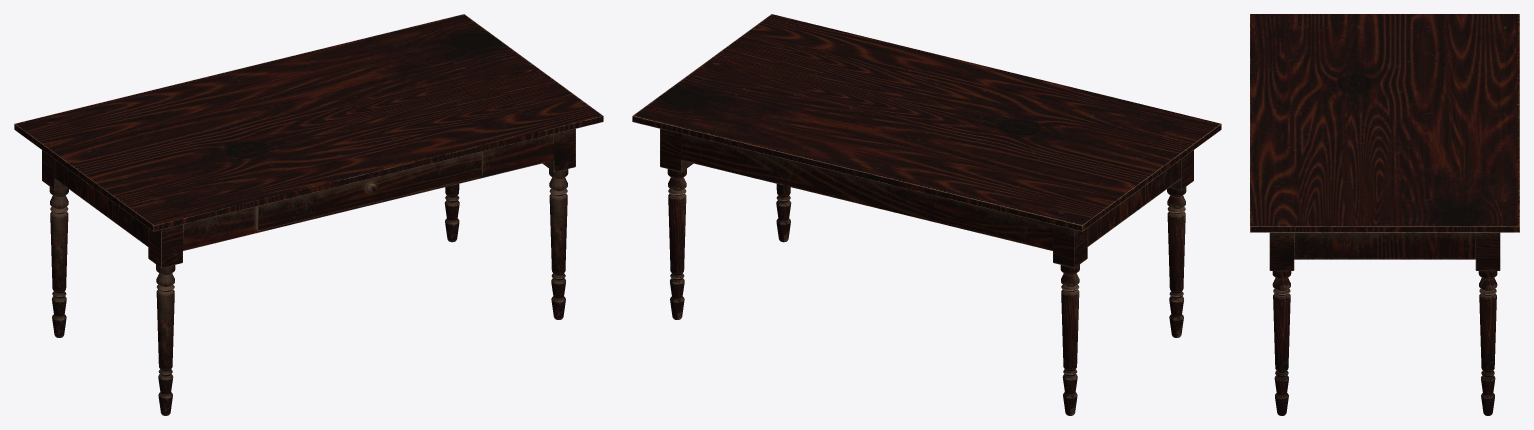
The model's file is mesa.glb.
3 renders of one model, left to right at view 1: azimuth 30°, elevation 25°; view 2: azimuth 150°, elevation 25°; view 3: azimuth 270°, elevation 25°, orthographic. The views are drawn at different scales.
Visible parts, largest first — view 1: Mesa; view 2: Mesa; view 3: Mesa.
Part boxes in pixels (x1=…): Mesa: x1=14, y1=14, x2=603, y2=415; Mesa: x1=632, y1=14, x2=1221, y2=415; Mesa: x1=1250, y1=14, x2=1519, y2=415.
Size of the model in its own units: 1.72 by 0.76 by 0.9237.
1 material, 1 textured.
